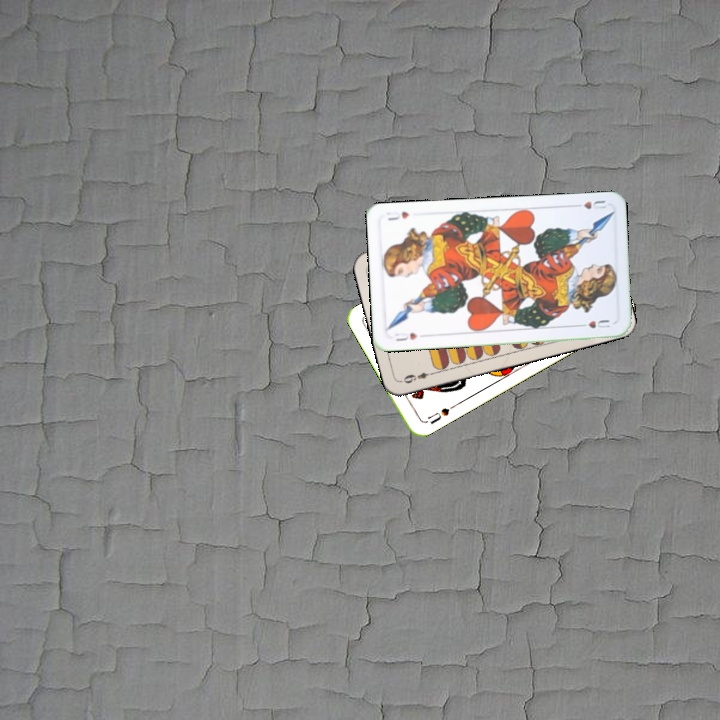E9: (399, 368, 438, 386)
HU: (569, 196, 609, 212), (391, 329, 420, 344)
SU: (424, 400, 458, 427)
